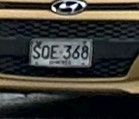number plate: (0, 0, 138, 93), (24, 75, 89, 78)
